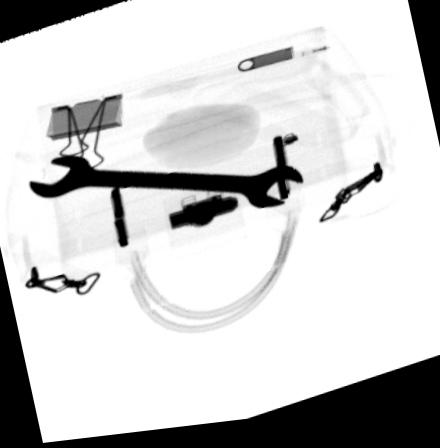Wrench: (26, 155, 307, 216)
